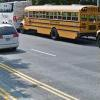Bus: (23, 5, 98, 44)
